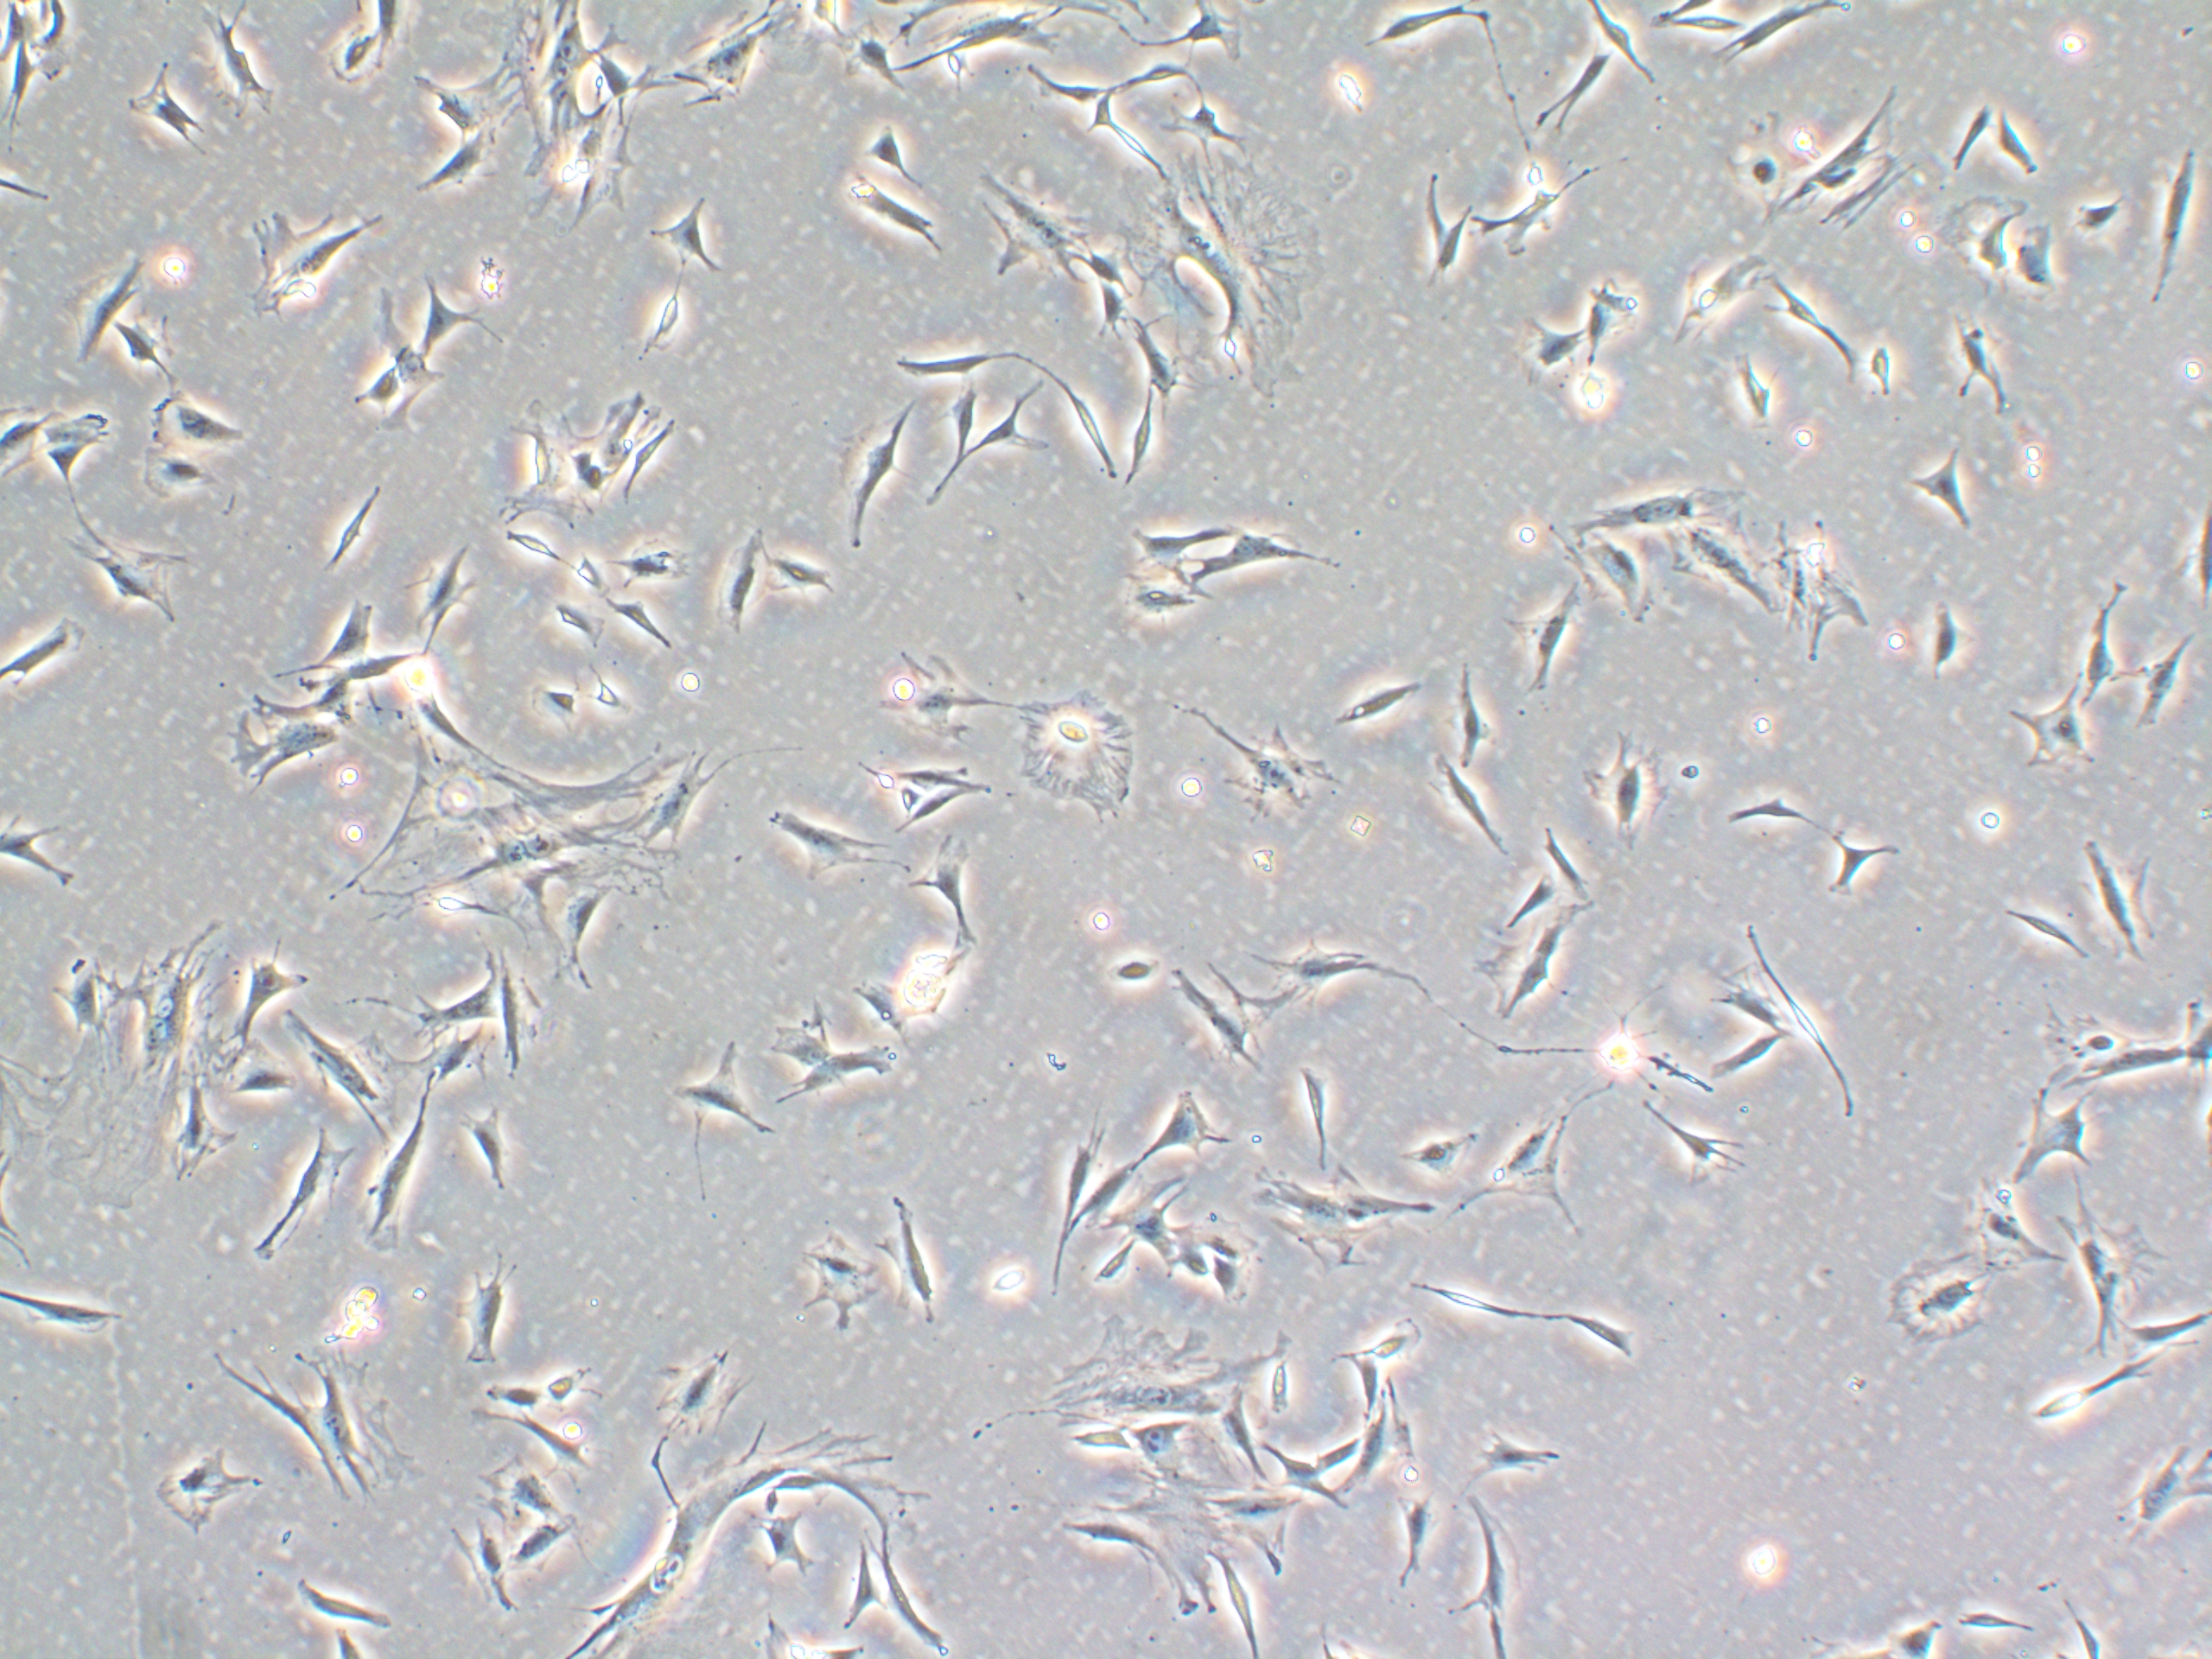Etc: (627, 270, 698, 371)
polygonal: (211, 1349, 421, 1502), (1461, 1094, 1604, 1262), (1777, 77, 1919, 239), (1247, 927, 1432, 1021), (658, 1037, 775, 1180), (343, 1089, 441, 1258), (831, 392, 920, 577), (110, 61, 254, 171), (1444, 1499, 1557, 1635), (1479, 157, 1609, 272), (2069, 823, 2170, 969), (251, 207, 368, 333), (359, 282, 453, 437), (287, 997, 399, 1127), (634, 1345, 763, 1457), (758, 798, 900, 897), (874, 1182, 960, 1347), (244, 1129, 341, 1270), (64, 521, 190, 631), (1543, 472, 1731, 544), (1484, 917, 1599, 1033), (230, 683, 343, 802), (1414, 748, 1526, 868), (867, 650, 1008, 744), (1188, 516, 1369, 589), (2141, 132, 2207, 331), (829, 166, 960, 265), (1576, 538, 1691, 647), (796, 1209, 885, 1349), (139, 1436, 265, 1534), (1909, 594, 2001, 721), (1177, 962, 1275, 1082), (655, 9, 766, 113), (1637, 1100, 1749, 1201), (197, 14, 296, 127), (1503, 584, 1588, 709), (1402, 148, 1475, 295), (56, 249, 145, 364), (1987, 892, 2095, 986), (961, 382, 1061, 481), (448, 1244, 521, 1378), (129, 389, 263, 462), (1432, 647, 1507, 775), (1331, 655, 1432, 749), (449, 1506, 521, 1638), (702, 504, 763, 659), (1707, 2, 1827, 80), (1904, 434, 1984, 551), (35, 399, 113, 516), (768, 1046, 895, 1117), (2132, 627, 2198, 762), (1460, 1413, 1573, 1492), (376, 974, 517, 1037), (442, 1100, 526, 1204), (1137, 1077, 1224, 1176), (1944, 307, 2019, 422), (1109, 519, 1240, 584), (399, 63, 523, 131), (636, 183, 730, 272), (1818, 836, 1914, 924), (1536, 809, 1615, 915), (465, 1455, 587, 1523), (99, 448, 235, 509), (230, 943, 310, 1046), (296, 586, 376, 688), (1580, 281, 1663, 378), (881, 329, 1035, 382), (2080, 582, 2134, 730), (284, 1567, 406, 1631), (1392, 1110, 1489, 1190), (1580, 0, 1667, 89), (2015, 207, 2081, 324), (906, 840, 979, 945), (752, 530, 836, 620), (1698, 957, 1801, 1030), (498, 955, 554, 1087), (927, 375, 981, 509), (1331, 1391, 1386, 1518), (1386, 1502, 1453, 1608), (415, 129, 510, 202), (1369, 3, 1507, 54), (505, 1513, 599, 1586), (406, 537, 472, 638), (1726, 763, 1817, 836), (421, 265, 495, 355), (1254, 1445, 1341, 1520), (1562, 1298, 1651, 1370), (864, 746, 988, 796), (218, 1044, 308, 1112), (1510, 317, 1573, 411), (836, 1539, 892, 1640), (751, 1502, 824, 1577), (1987, 105, 2048, 193), (1294, 1056, 1345, 1162), (1705, 1032, 1792, 1093), (341, 648, 432, 697), (111, 317, 174, 385), (1498, 875, 1555, 936), (1021, 66, 1103, 106)
small-round: (1083, 945, 1183, 995), (972, 1251, 1035, 1309)
spread: (570, 1413, 923, 1659), (1089, 134, 1355, 413), (14, 927, 237, 1227), (350, 730, 676, 913), (1047, 1317, 1303, 1439), (505, 0, 639, 230), (996, 676, 1153, 836), (479, 399, 665, 519), (1742, 505, 1878, 669), (1876, 1248, 2040, 1380), (1186, 702, 1339, 836), (1244, 1168, 1439, 1263), (963, 159, 1108, 284), (2060, 1195, 2161, 1363), (1865, 322, 1928, 418), (604, 591, 681, 666), (857, 115, 923, 192), (465, 1371, 552, 1417), (496, 526, 571, 575), (536, 1358, 608, 1408), (557, 545, 624, 599), (543, 598, 611, 648), (596, 662, 651, 721), (514, 680, 594, 720)
